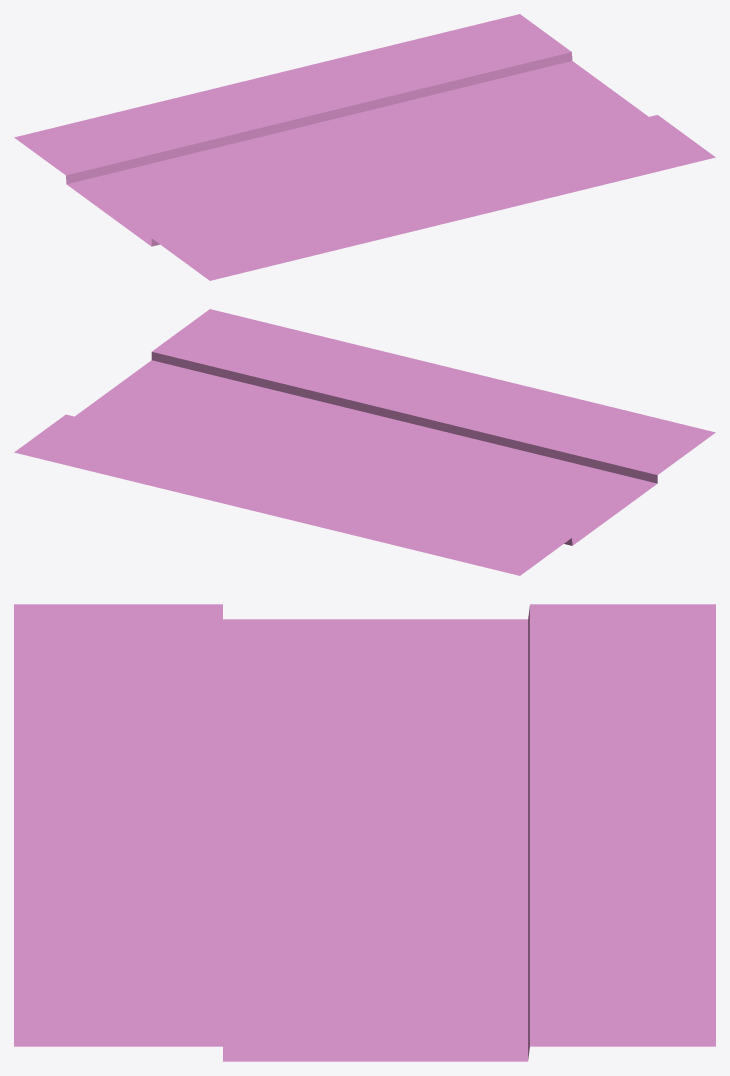
The model's file is piso.fbx.
The picture shows the model from 3 angles, top to bottom: view 1: azimuth 30°, elevation 25°; view 2: azimuth 150°, elevation 25°; view 3: azimuth 270°, elevation 25°; orthographic projection. The views are drawn at different scales.
Visible parts, largest first — view 1: piso; view 2: piso; view 3: piso.
Boxes of the visible parts, <box> form: piso: <box>14,14,715,280</box>; piso: <box>14,309,715,575</box>; piso: <box>14,604,715,1061</box>.
Bounding box in the file's own units: 424 × 6.76 × 284.
